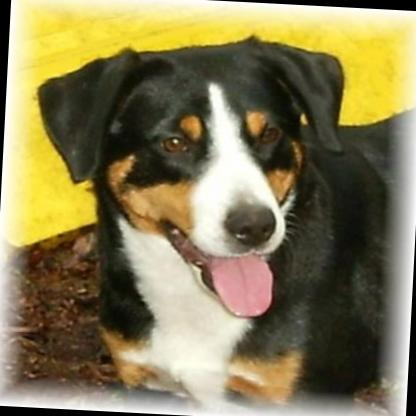EntleBucher: (19, 18, 416, 413)
